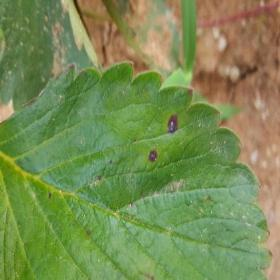Leaf Spot: (0, 61, 275, 279)
